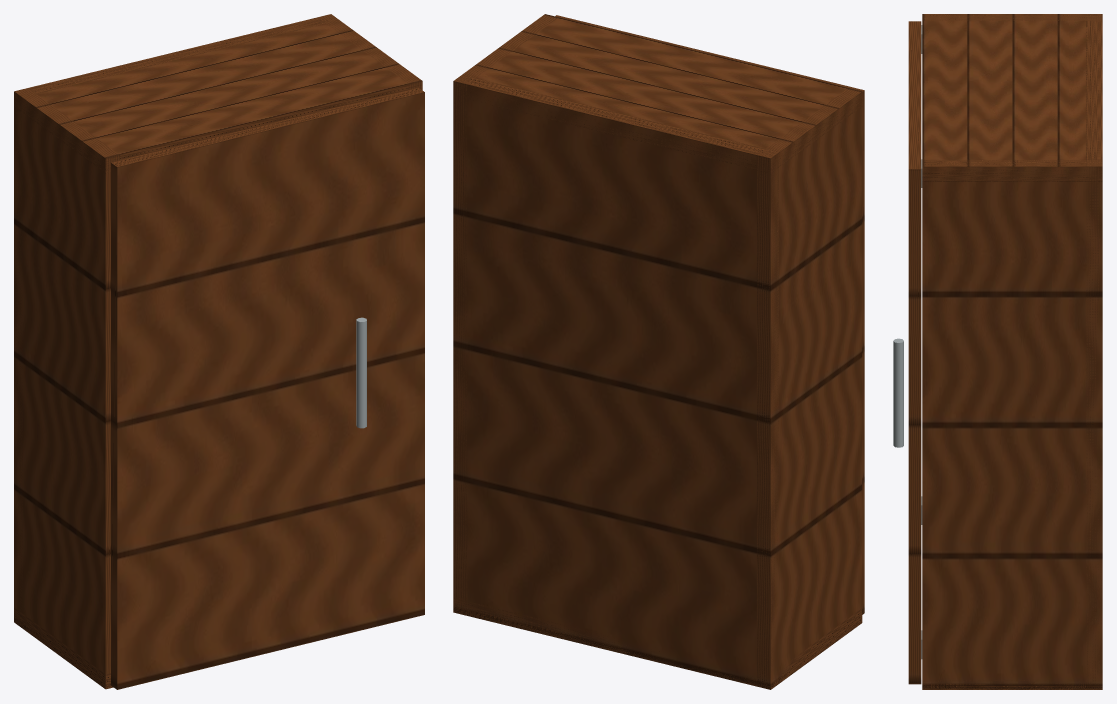
Rendered from rural-scavenging-settlements-cottage-cupboard-478c1e55__26569.glb.
The picture shows the model from 3 angles, left to right: view 1: azimuth 30°, elevation 25°; view 2: azimuth 150°, elevation 25°; view 3: azimuth 270°, elevation 25°; orthographic projection.
Visible parts, largest first — view 1: cabinet-door-0/wood, cottage-cupboard; view 2: cottage-cupboard, cabinet-door-0/wood; view 3: cottage-cupboard, cabinet-door-0/wood.
Boxes of the visible parts, <box> form: cabinet-door-0/wood: <box>111,87,424,689</box>; cottage-cupboard: <box>14,14,422,689</box>; cottage-cupboard: <box>453,14,862,689</box>; cabinet-door-0/wood: <box>555,15,864,614</box>; cottage-cupboard: <box>893,14,1102,689</box>; cabinet-door-0/wood: <box>908,21,921,684</box>.
Bounding box in the file's own units: 0.9999 × 1.6 × 0.58.
Materials: 2 (1 with a texture image).
